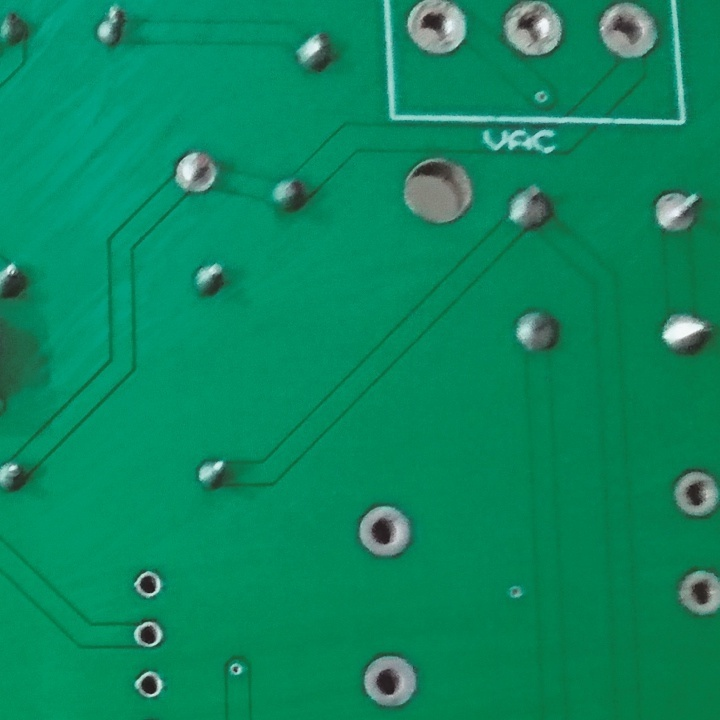F: (595, 1, 659, 60), (361, 651, 421, 713), (501, 1, 566, 58), (405, 1, 472, 56), (356, 501, 416, 562), (667, 466, 720, 520), (170, 149, 224, 200), (653, 187, 703, 238), (674, 565, 720, 620), (129, 616, 167, 655), (135, 664, 164, 703), (130, 569, 167, 598)
